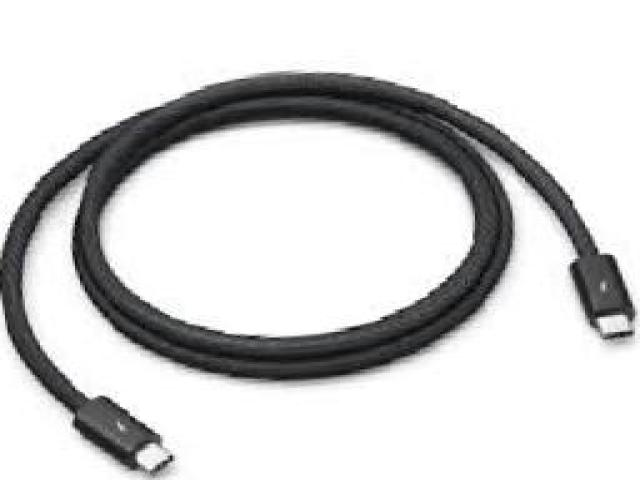wire: (0, 73, 635, 471)
